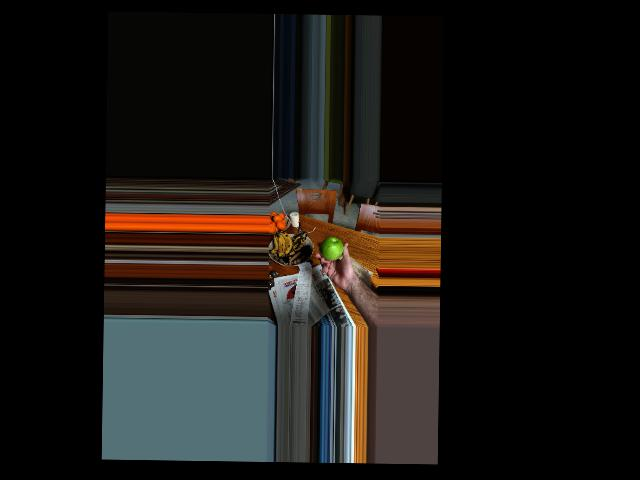apple: (320, 237, 343, 262)
